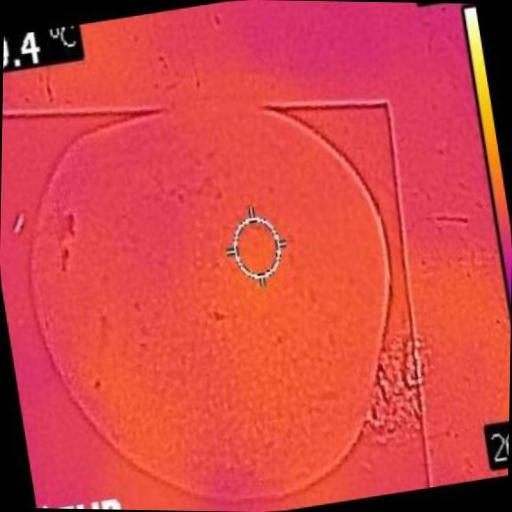alphanso: (31, 106, 390, 500)
